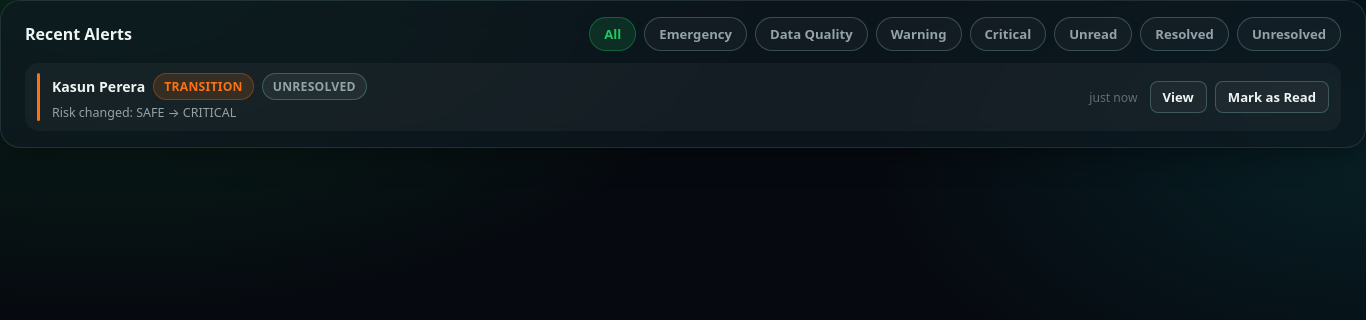
Scenario: RecentAlertsCard › Mark as Read acknowledges the alert and updates the row
Click the button "Mark as Read" at (1272, 97), box [1215,81,1329,113]
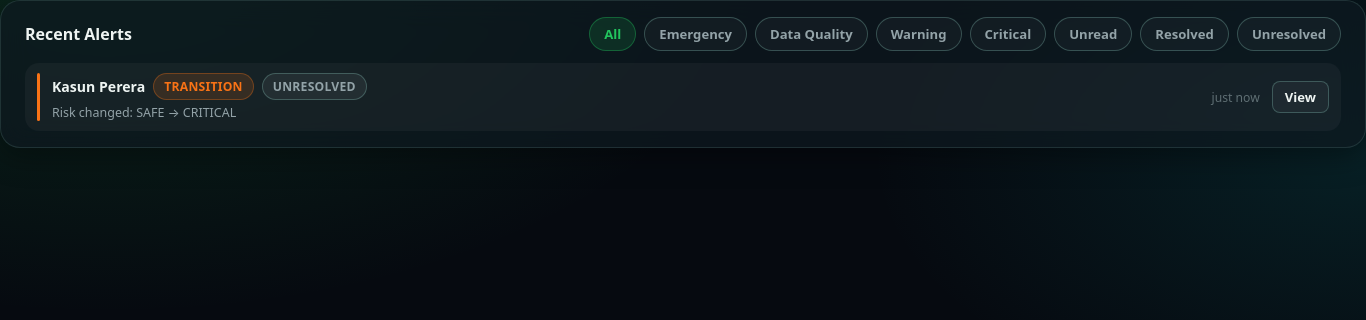
Expected: the button "Mark as Read" is gone
